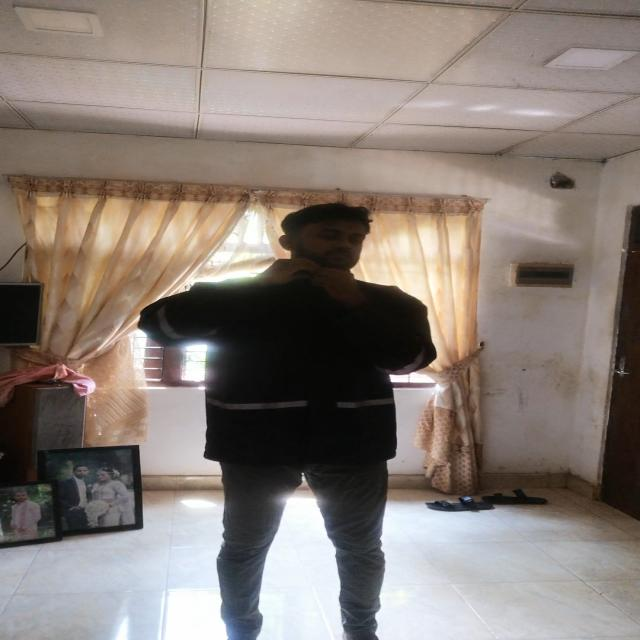Jacket_Wearer: (135, 260, 443, 488)
Person: (131, 197, 438, 640)
